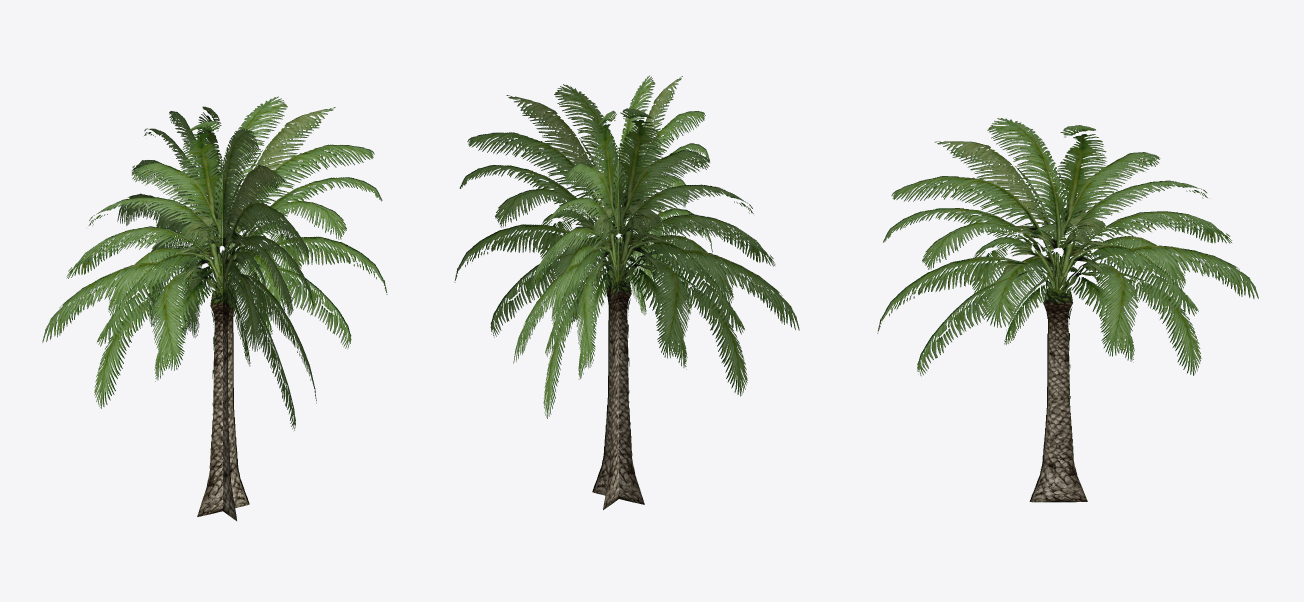
File: Tree_DatePlam_Lod3.fbx
3 views of the same model, side by side, from view 1: azimuth 30°, elevation 25°; view 2: azimuth 150°, elevation 25°; view 3: azimuth 270°, elevation 25° (orthographic). The views are drawn at different scales.
Parts seen in each view (by area): view 1: Tree_DatePlam_Lod3; view 2: Tree_DatePlam_Lod3; view 3: Tree_DatePlam_Lod3.
Boxes of the visible parts, bbox=[...] form: Tree_DatePlam_Lod3: bbox=[42, 96, 387, 520]; Tree_DatePlam_Lod3: bbox=[454, 75, 799, 509]; Tree_DatePlam_Lod3: bbox=[877, 118, 1258, 502].
Bounding box in the file's own units: 1027 × 1022 × 1027.
Materials: 1 (1 with a texture image).
